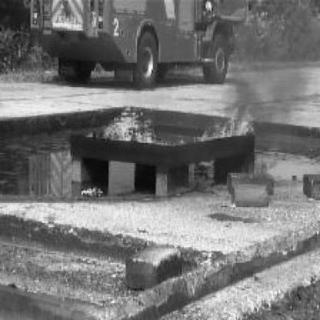Fire: (100, 103, 154, 143)
